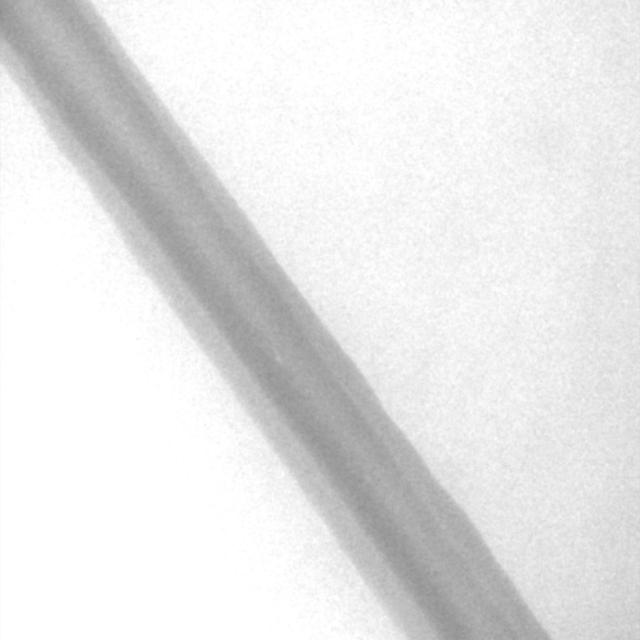air-hole: (273, 354, 283, 369)
